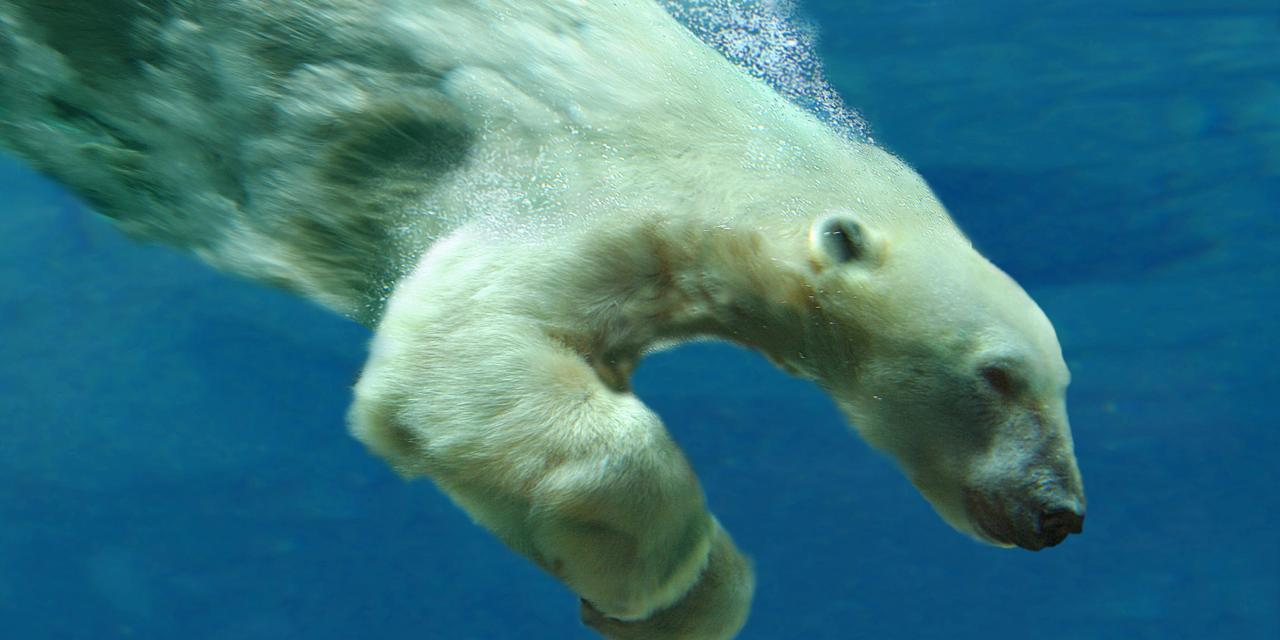Polar Bear: (166, 68, 1112, 640)
